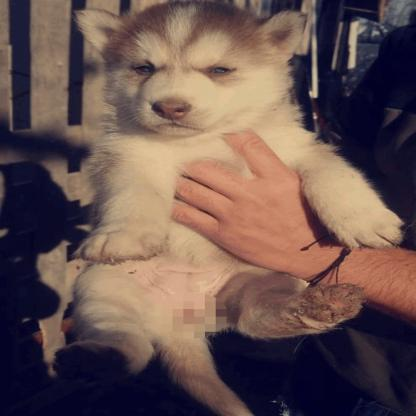dog: (56, 1, 401, 389)
